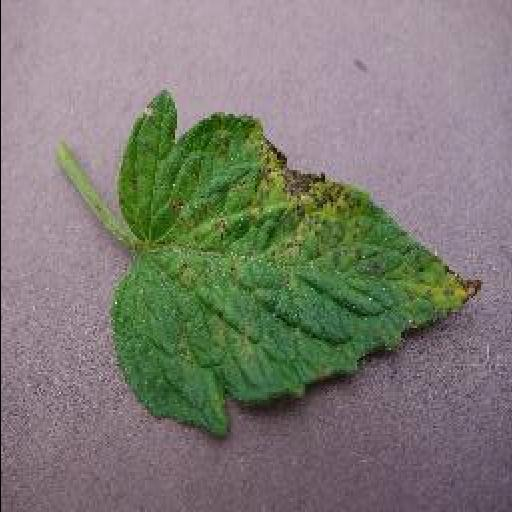disease_tomato: (112, 91, 482, 439)
